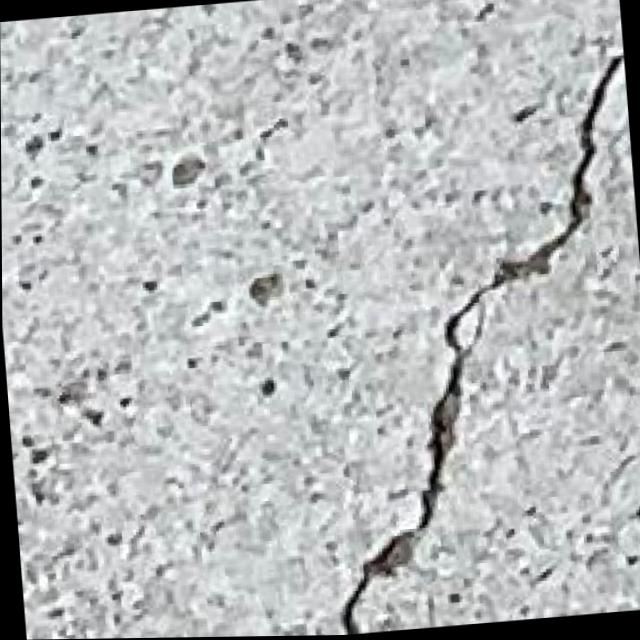Crack: (291, 51, 640, 637)
